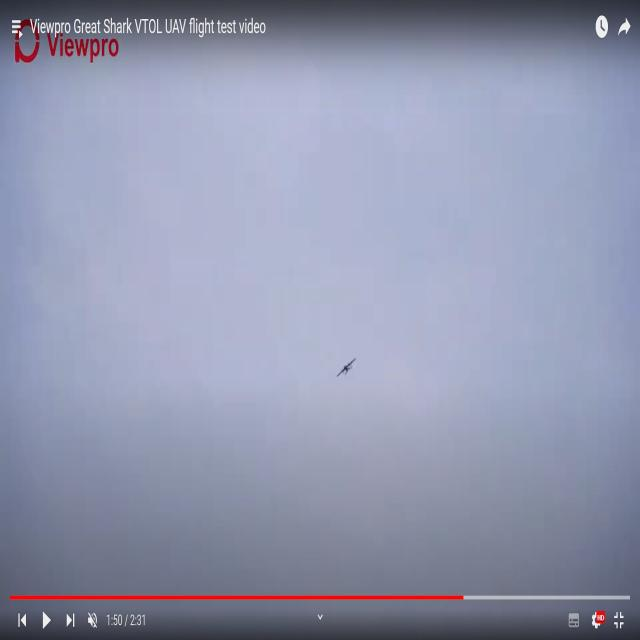iha: (337, 354, 359, 376)
